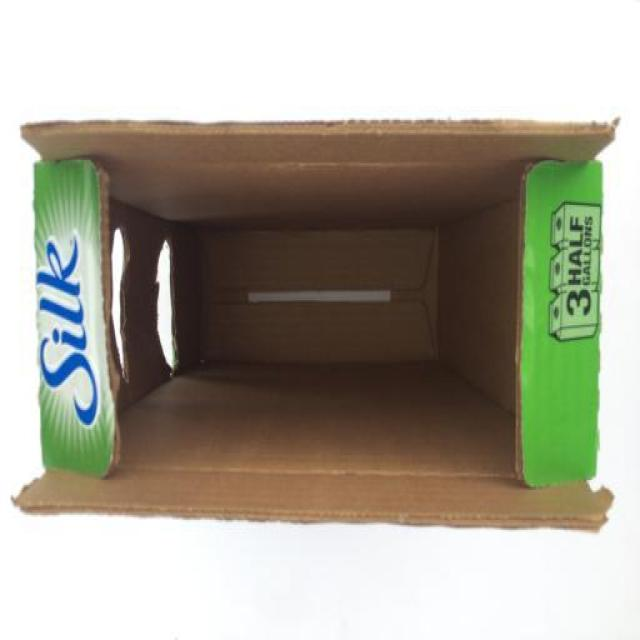cardboard: (14, 115, 620, 533)
